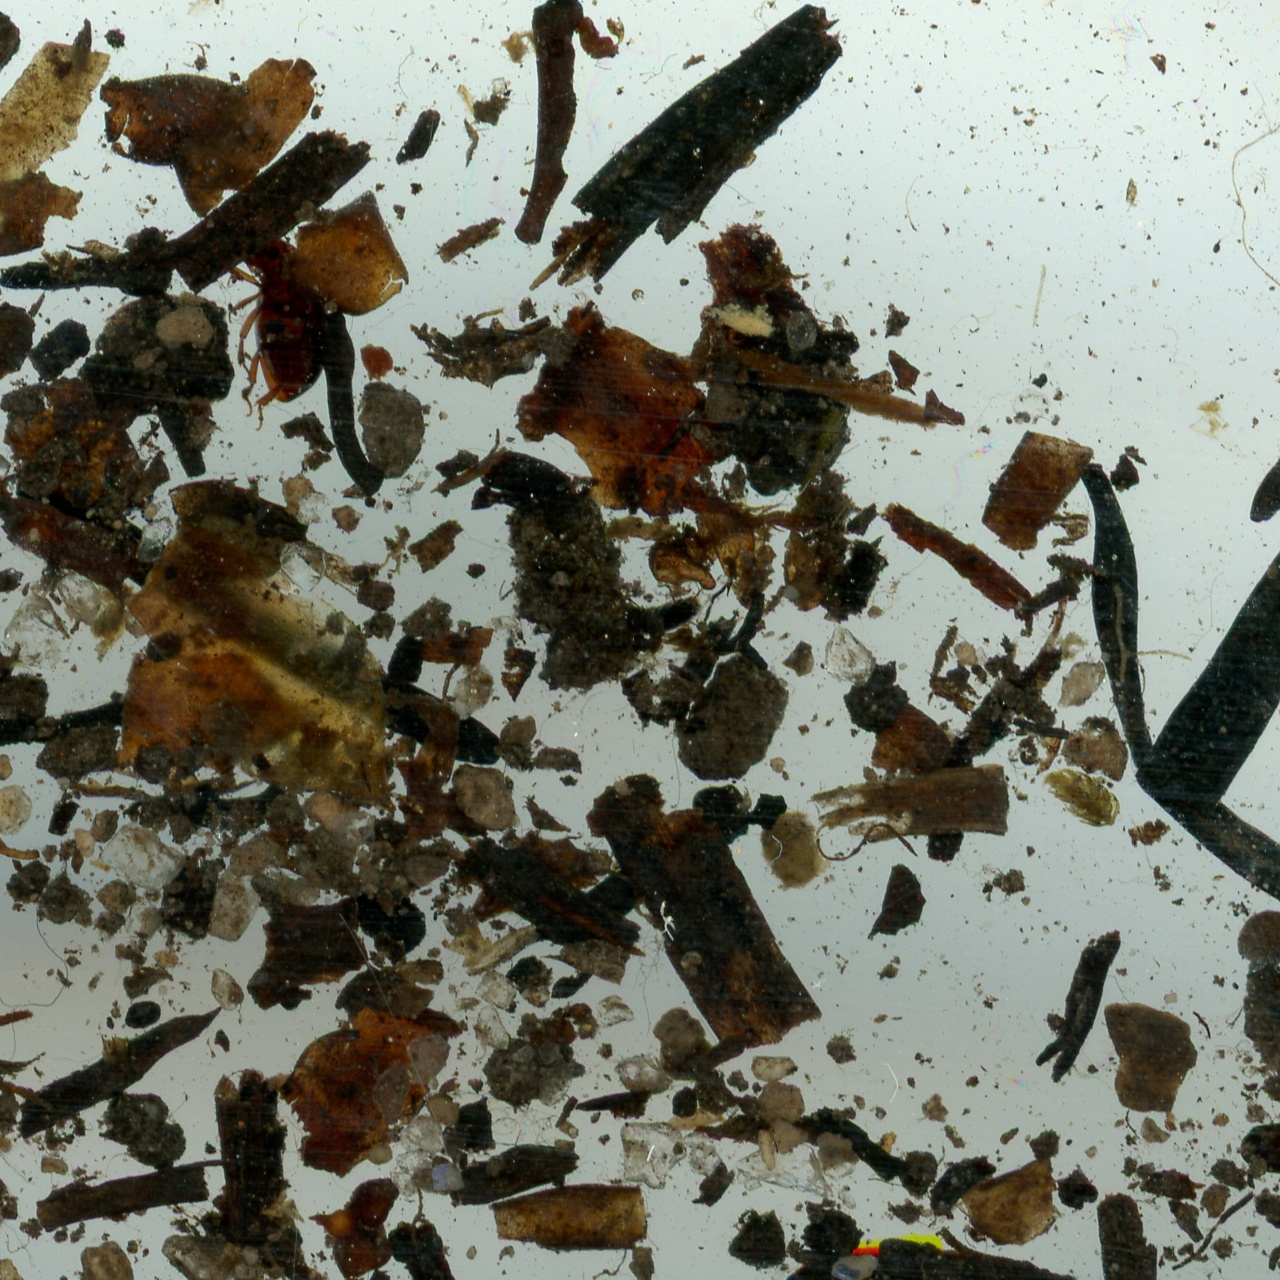arthropod: (224, 232, 327, 438)
